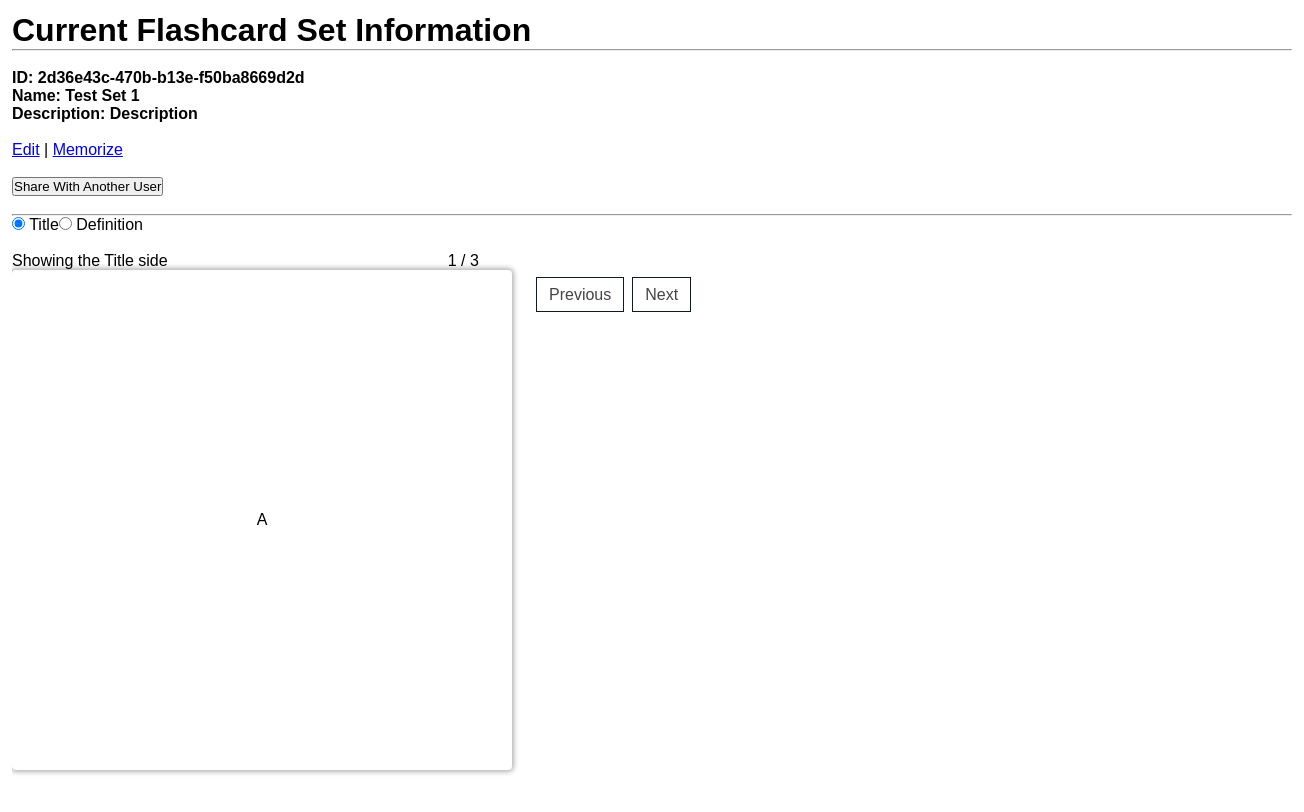
Test: validates clicking the flashcard element swaps the showing side of the flashcard
The width and height of the screenshot is (1304, 812).
Expected: the text "Showing the Title side" is shown, [12,252,168,270]
Click the text "A" at (262, 520), box [257,511,267,528]
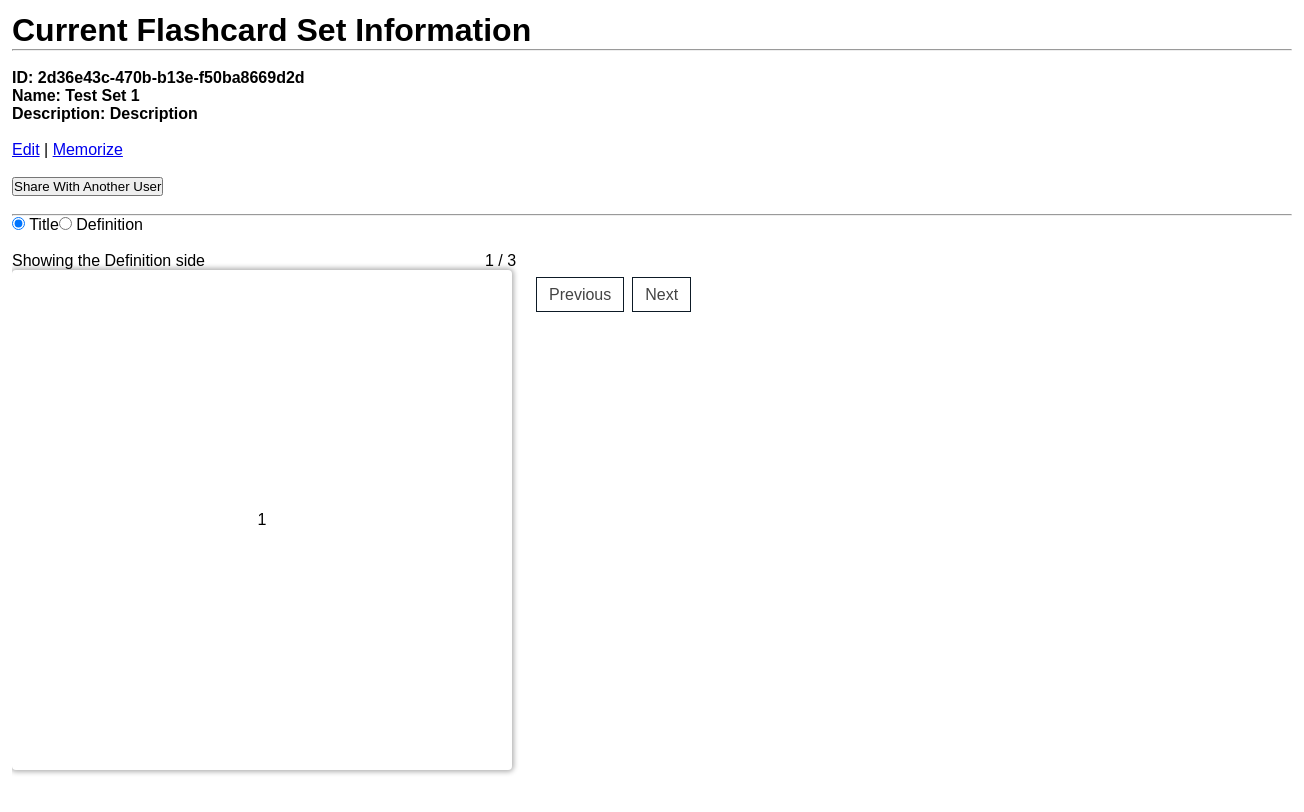
Result: the text "Showing the Definition side" is shown at [12,252,205,270]
